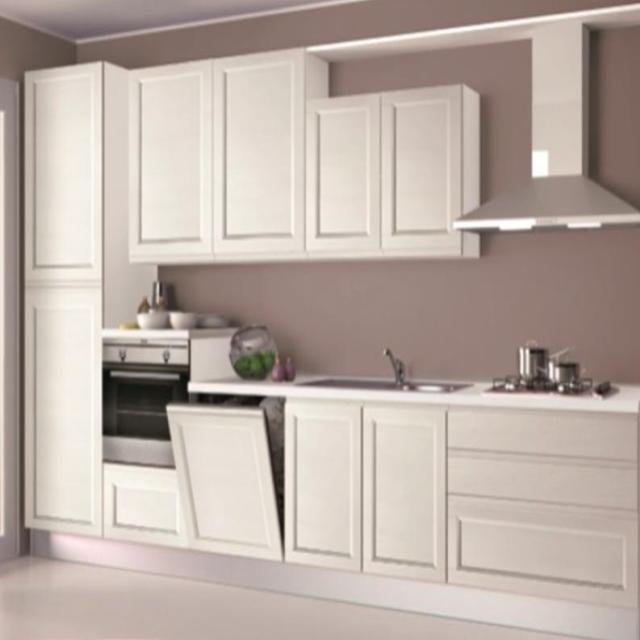dishwasher: (164, 394, 286, 564)
